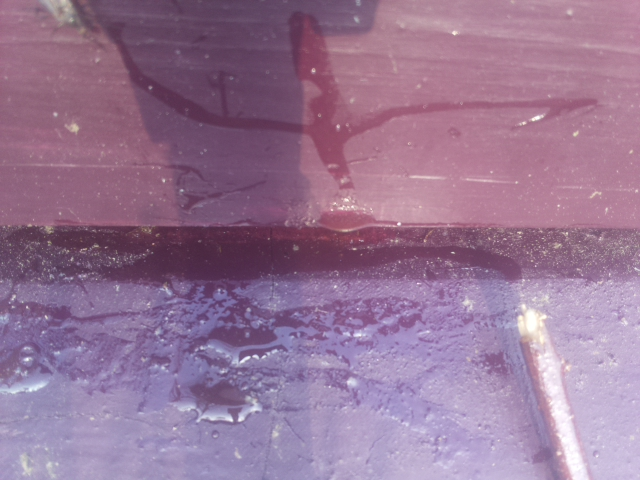ant: (36, 0, 98, 40), (0, 343, 47, 388)
